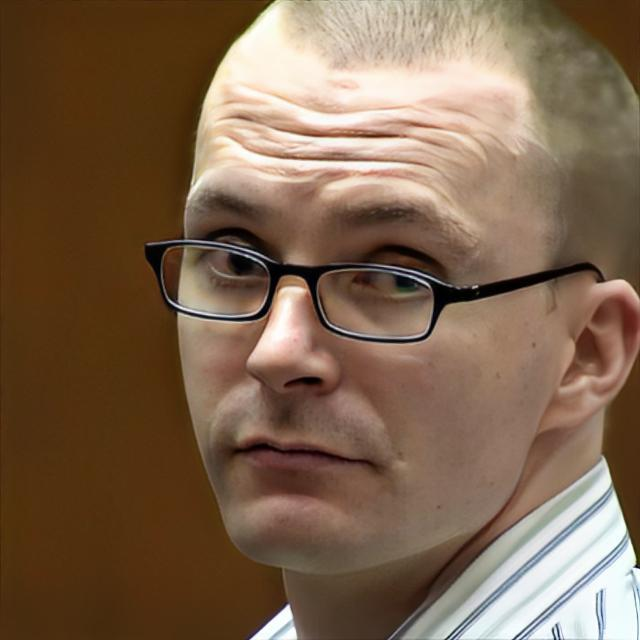surprise: (174, 2, 574, 578)
